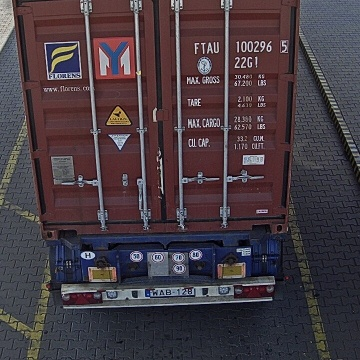serial_id: (195, 40, 288, 53)
